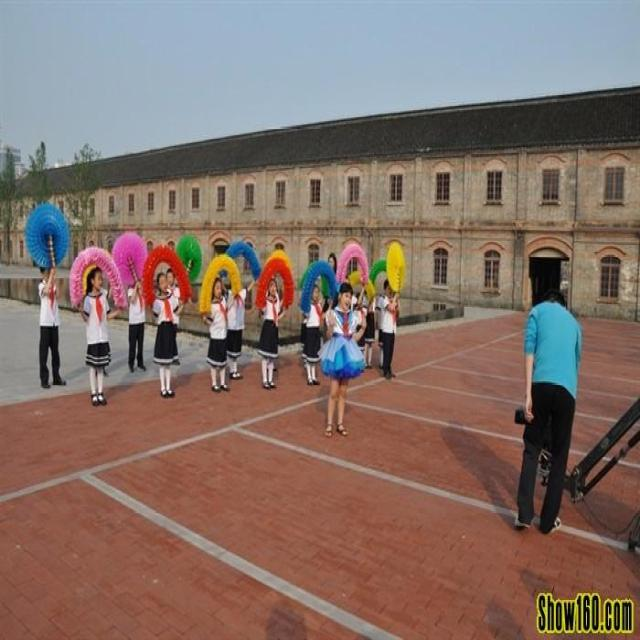non-fight: (507, 248, 588, 537), (196, 237, 252, 392), (319, 277, 363, 435), (77, 268, 116, 404), (253, 252, 290, 389), (33, 253, 67, 391), (149, 263, 183, 396), (369, 263, 404, 381)
